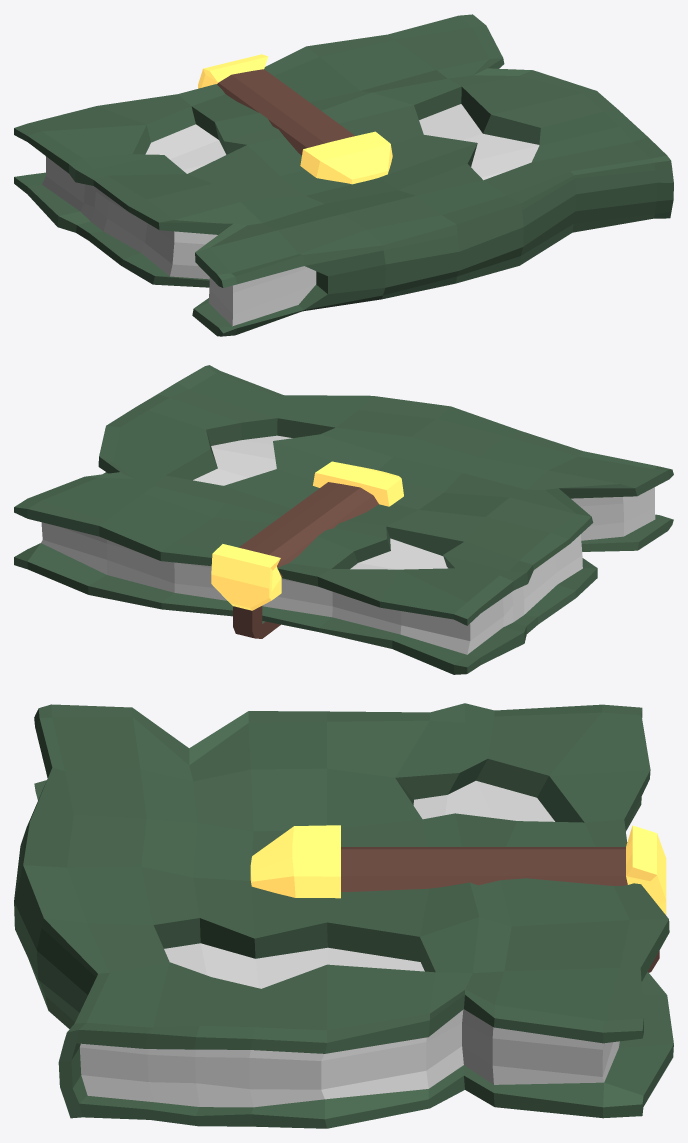
The model's file is book3.fbx.
3 views of the same model, one above another, from view 1: azimuth 30°, elevation 25°; view 2: azimuth 150°, elevation 25°; view 3: azimuth 270°, elevation 25° (orthographic). The views are drawn at different scales.
Parts seen in each view (by area): view 1: Cube; view 2: Cube; view 3: Cube.
Part boxes in pixels (x1,y1,x2,y2): Cube: (14,14,673,336); Cube: (14,365,673,674); Cube: (14,703,673,1128).
Bounding box in the file's own units: 289 × 50.9 × 234.
